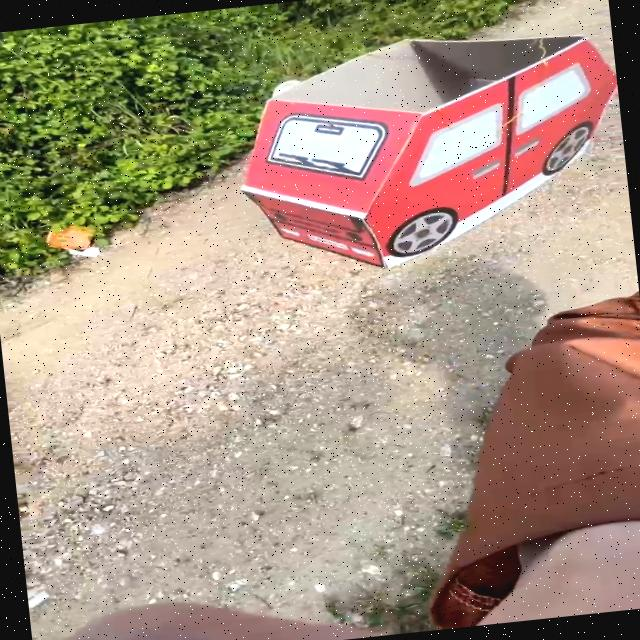red_car: (189, 11, 636, 301)
